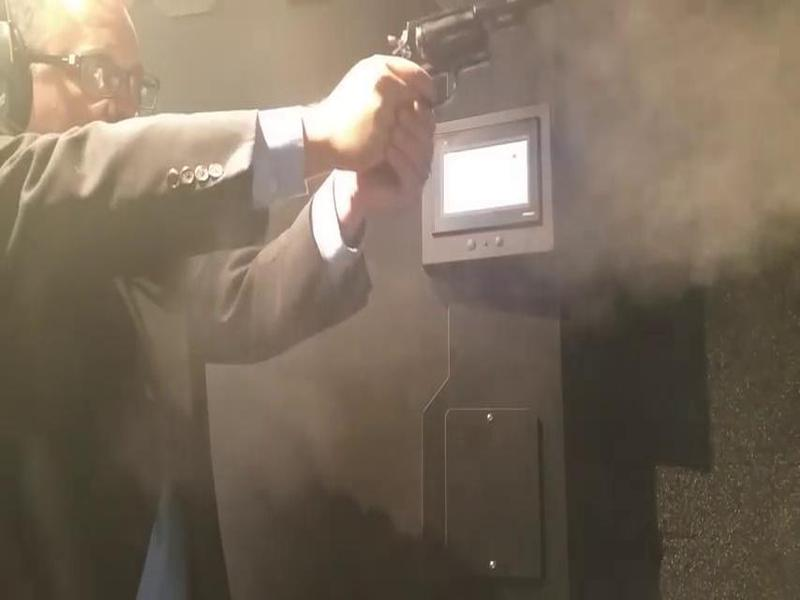Revolver: (352, 1, 537, 121)
